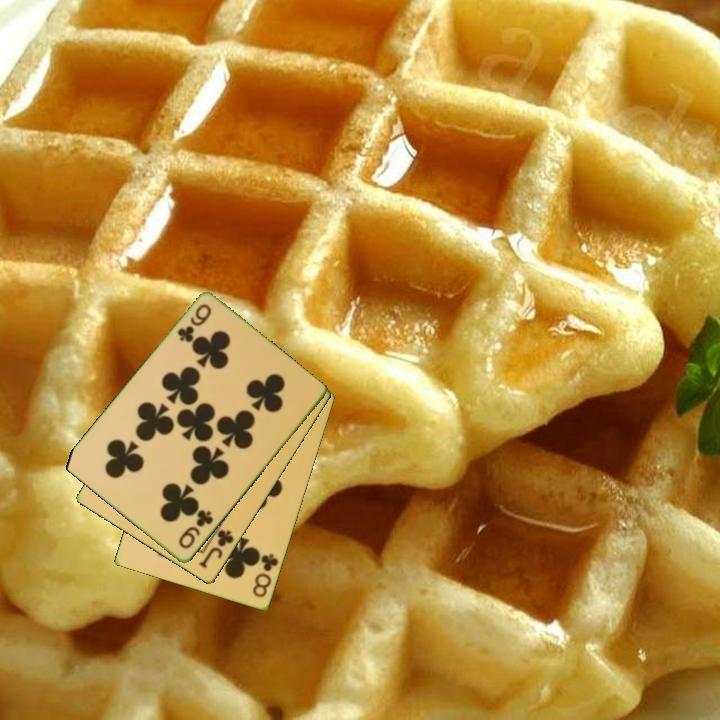8c: (249, 550, 282, 601)
9c: (175, 506, 217, 552), (173, 301, 214, 346)
Jc: (195, 526, 237, 572)
